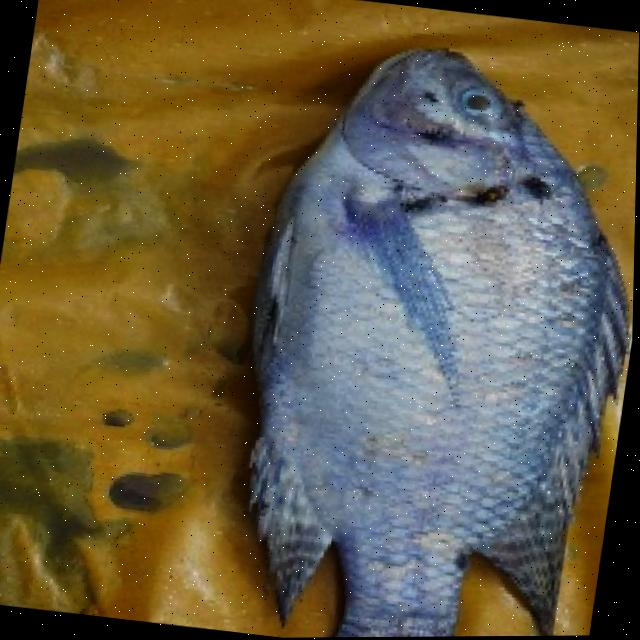Non-Fresh: (246, 122, 600, 559), (432, 79, 520, 147)
